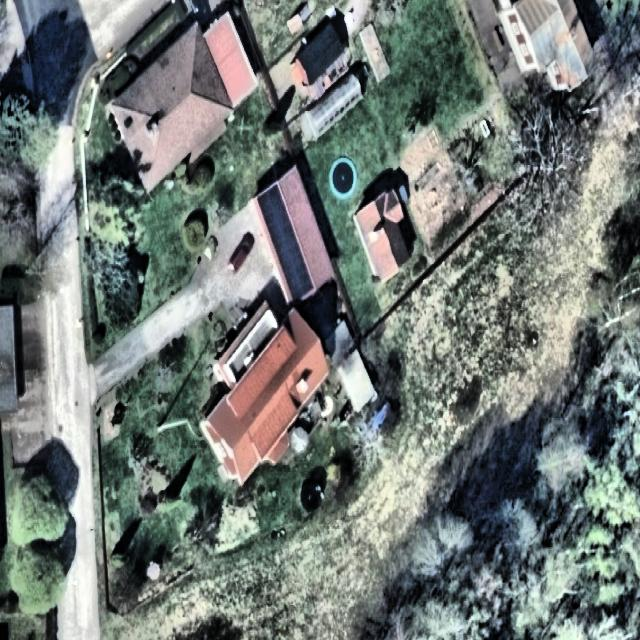roof_pv: (274, 256, 318, 298), (258, 186, 294, 223), (264, 222, 303, 255)
